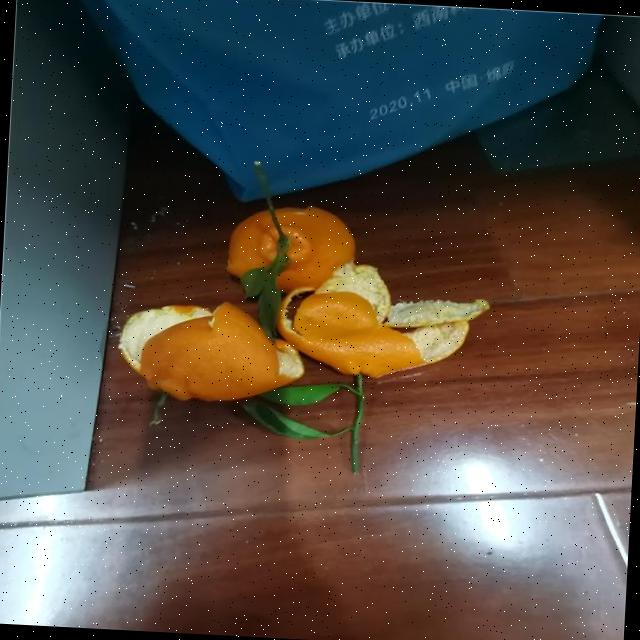orange-peel: (136, 296, 306, 408), (274, 284, 426, 382), (223, 200, 358, 297)
